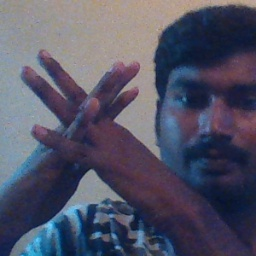W: (12, 44, 162, 194)
